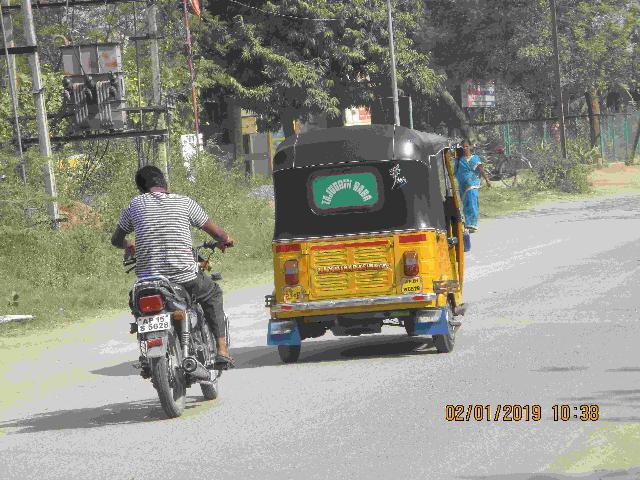motor: (130, 278, 231, 419)
non-helm: (136, 167, 168, 194)
